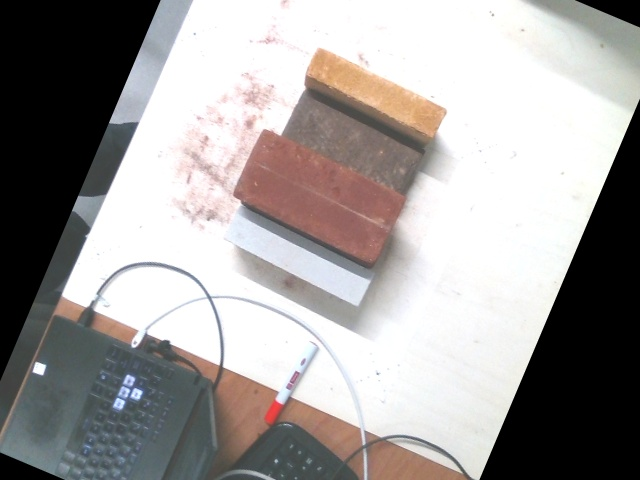brick: (231, 128, 403, 262), (281, 86, 429, 195)
brick-side: (218, 206, 373, 306), (303, 44, 450, 138)
